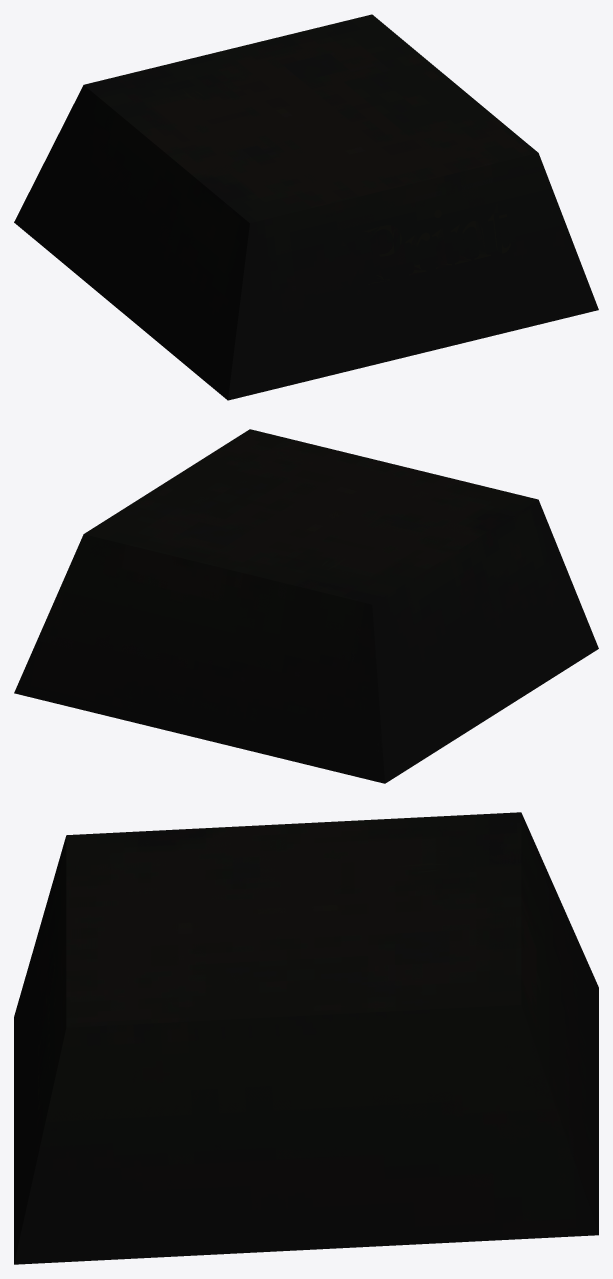
The model's file is link_45__key-51.glb.
3 renders of one model, top to bottom at view 1: azimuth 30°, elevation 25°; view 2: azimuth 150°, elevation 25°; view 3: azimuth 270°, elevation 25°, orthographic. The views are drawn at different scales.
Parts seen in each view (by area): view 1: world; view 2: world; view 3: world.
Part boxes in pixels (x1=…): world: x1=14, y1=14, x2=598, y2=400; world: x1=14, y1=429, x2=598, y2=783; world: x1=14, y1=812, x2=598, y2=1264.
Size of the model in its own units: 0.0719 by 0.0315 by 0.0718.
Materials: 1 (1 with a texture image).
